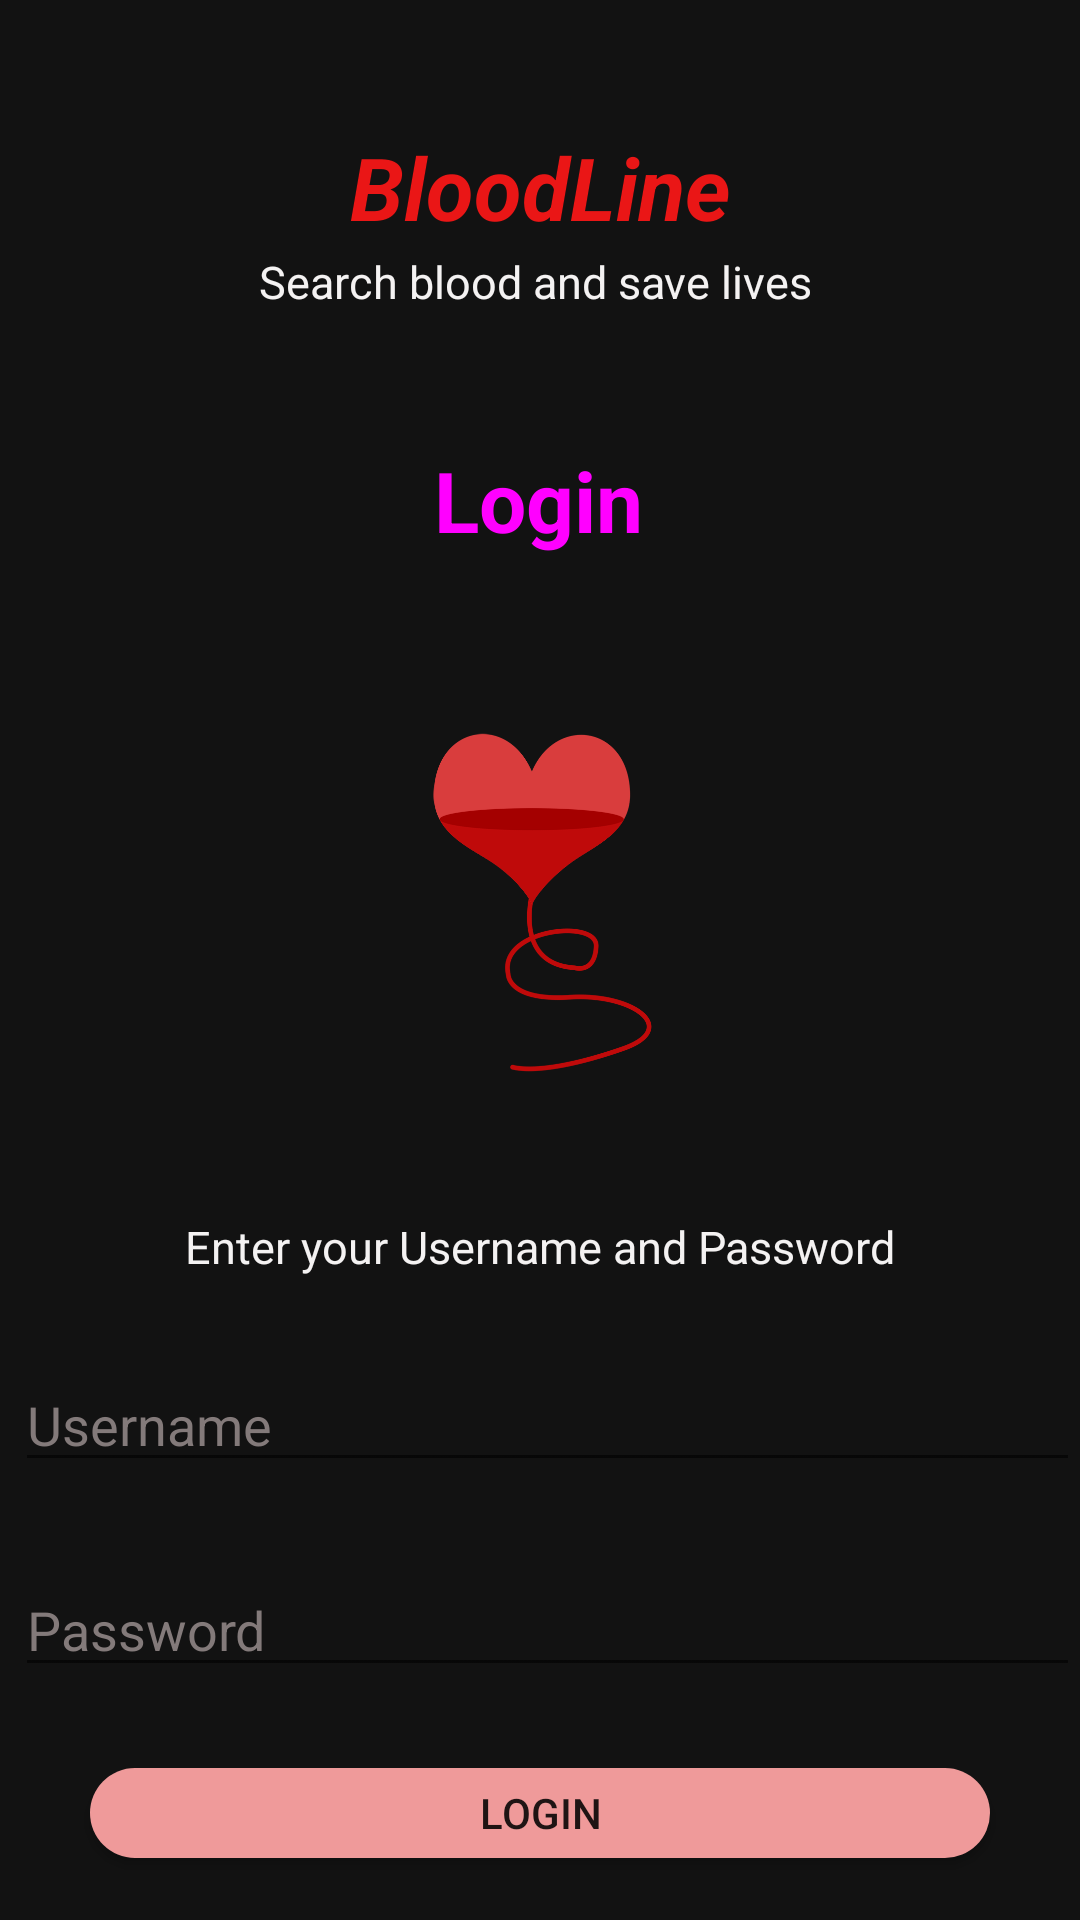

Locate icon controls on the screen. Image size 1080 × 1920, boxes as {"left": x1, "top": y1, "right": x2, "bottom": y2}.
heart: {"left": 433, "top": 733, "right": 652, "bottom": 1072}
